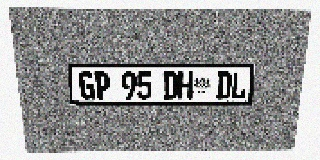5: (137, 71, 152, 99)
9: (121, 71, 137, 99)
D: (216, 71, 232, 99), (163, 71, 178, 99)
G: (79, 71, 95, 99)
H: (178, 71, 193, 99)
L: (231, 71, 247, 99)
P: (94, 71, 110, 99)
